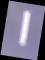Squash-Ball: (0, 1, 45, 60)
